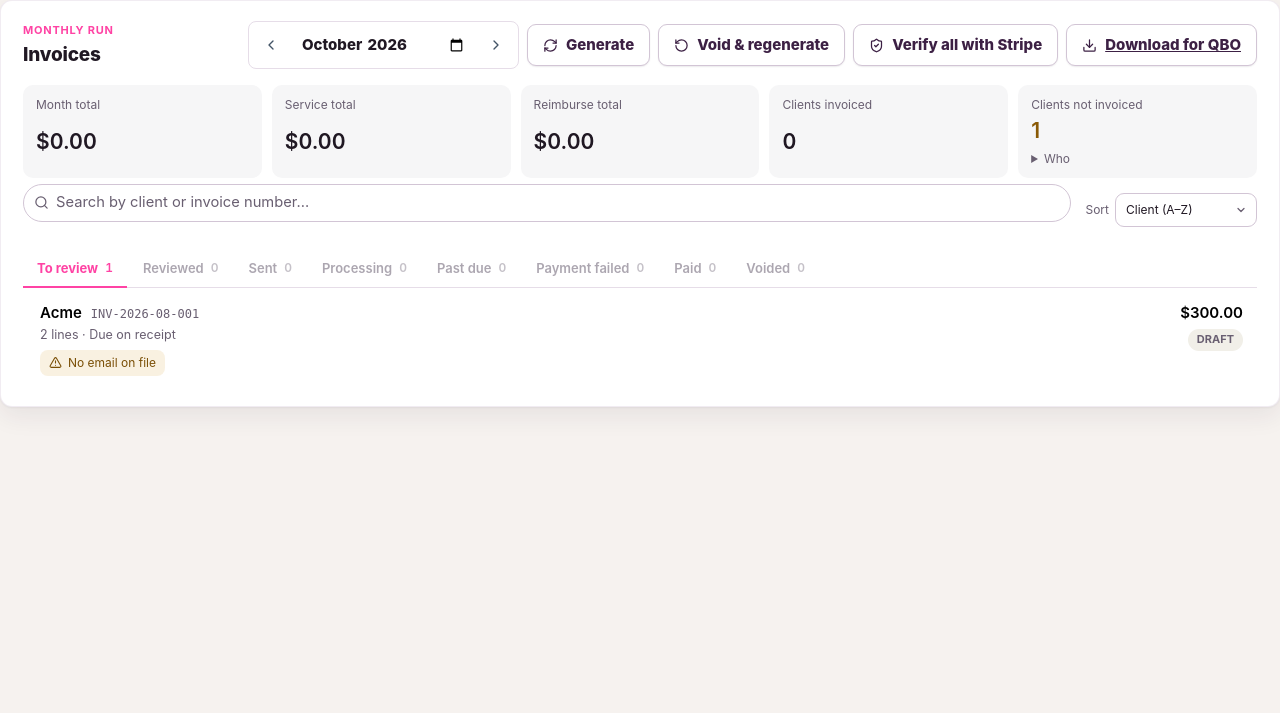
it: InvoiceScopePanel — what it shows › lists the period’s entries grouped under the team member, with the five columns
Click the text "INV-2026-08-001": (145, 315) [91,306,199,324]
(page scrolled)
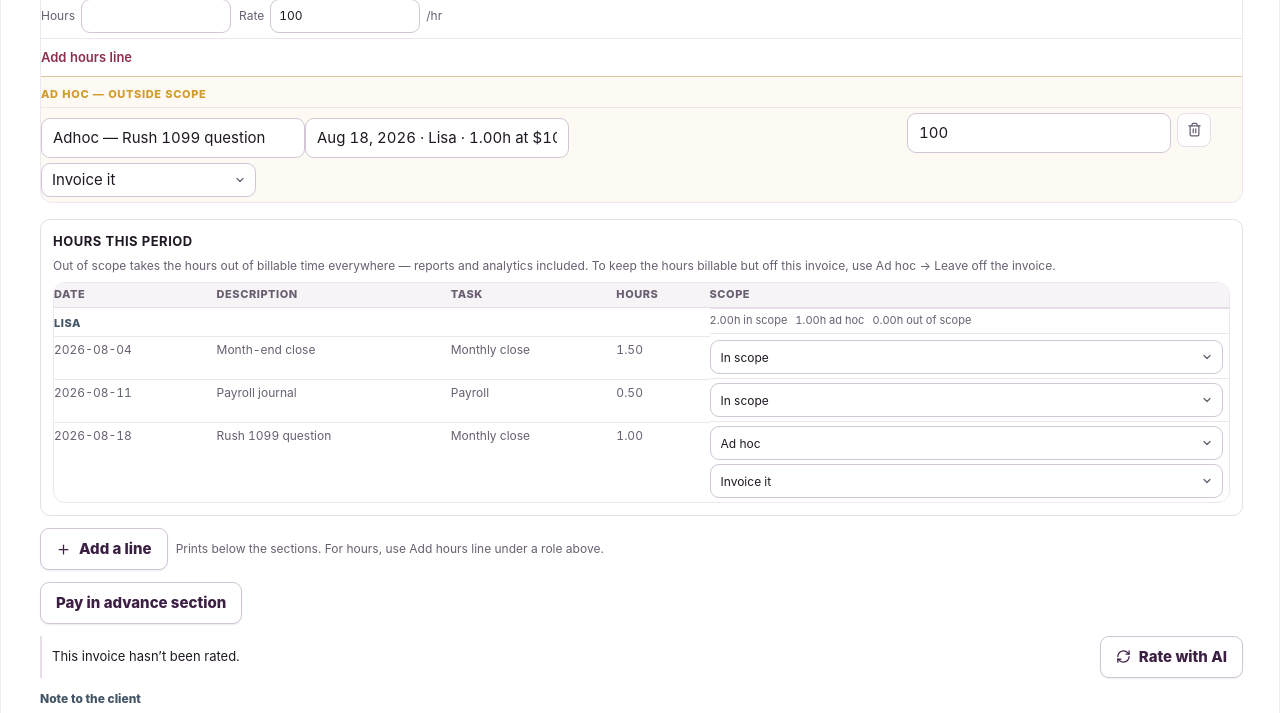
Result: the column heading "Date" is shown at [54,283,217,307]
Result: the column heading "Description" is shown at [217,283,451,307]
Result: the column heading "Task" is shown at [451,283,616,307]
